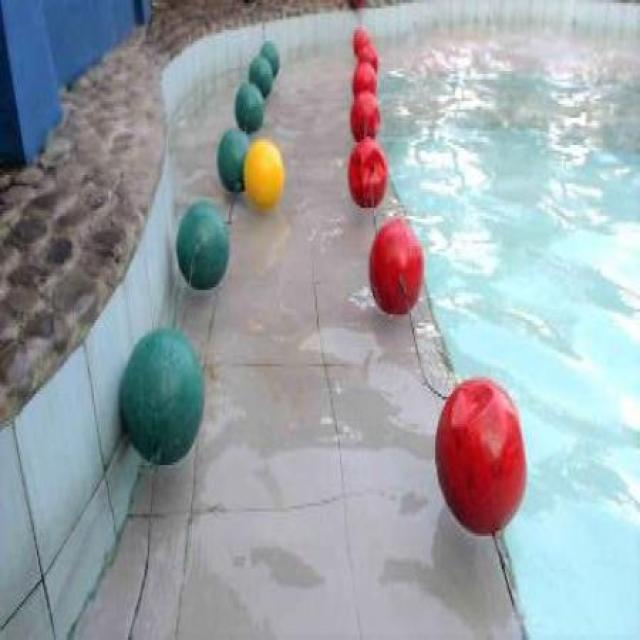buoy: (434, 375, 526, 532), (118, 327, 205, 467), (367, 216, 424, 314), (177, 201, 230, 291), (242, 140, 284, 210), (348, 136, 388, 208), (216, 129, 249, 194), (232, 79, 263, 134), (349, 92, 381, 143), (351, 61, 376, 108), (248, 55, 273, 99), (256, 38, 279, 77), (351, 28, 371, 60), (356, 46, 376, 76)
